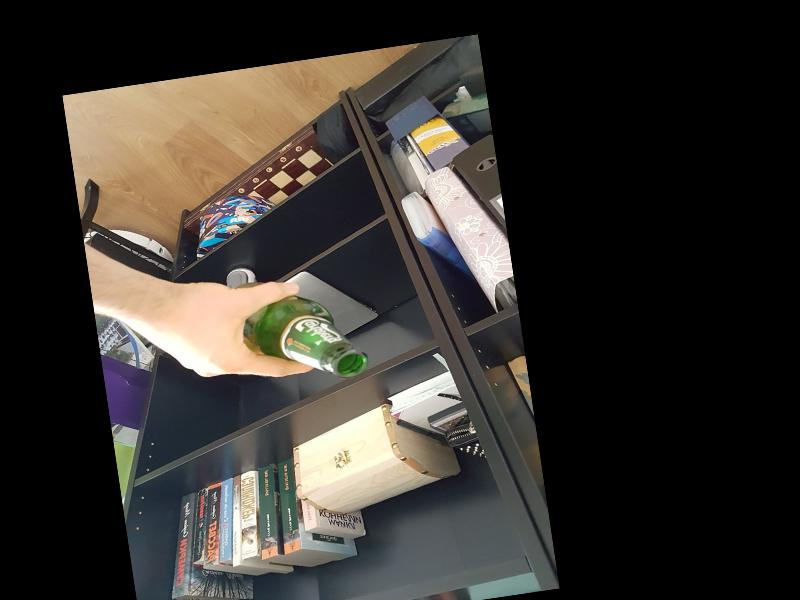Beer: (228, 266, 370, 391)
